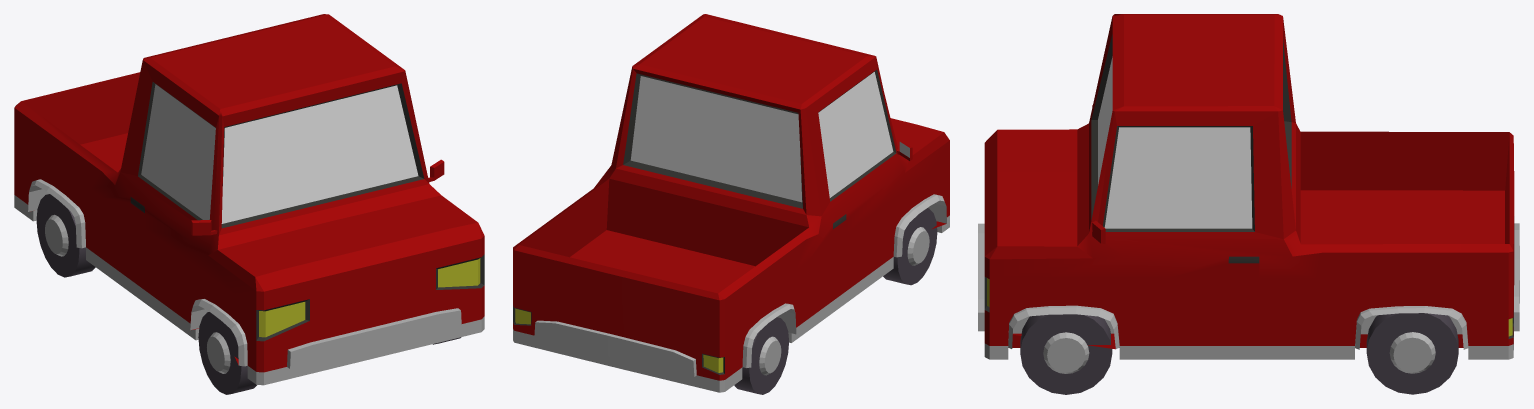
Rendered from Truck 1 - Red.fbx.
The picture shows the model from 3 angles, left to right: view 1: azimuth 30°, elevation 25°; view 2: azimuth 150°, elevation 25°; view 3: azimuth 270°, elevation 25°; orthographic projection. The views are drawn at different scales.
Parts seen in each view (by area): view 1: Body, rr_wheel, fr_wheel; view 2: Body, rr_wheel, fr_wheel; view 3: Body, rl_wheel, fl_wheel.
Part boxes in pixels (x1,y1,x2,y2): Body: (14,14,484,385); rr_wheel: (36,194,95,277); fr_wheel: (198,312,256,394); Body: (513,14,949,392); rr_wheel: (734,317,788,394); fr_wheel: (883,208,937,285); Body: (978,14,1519,359); rl_wheel: (1366,313,1458,394); fl_wheel: (1020,314,1112,394).
Bounding box in the file's own units: 241 × 234 × 418.
